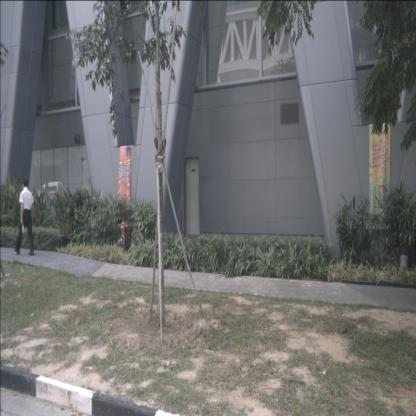human-pedestrian-adult: (14, 178, 35, 256)
vehicle-car: (37, 182, 63, 204)
